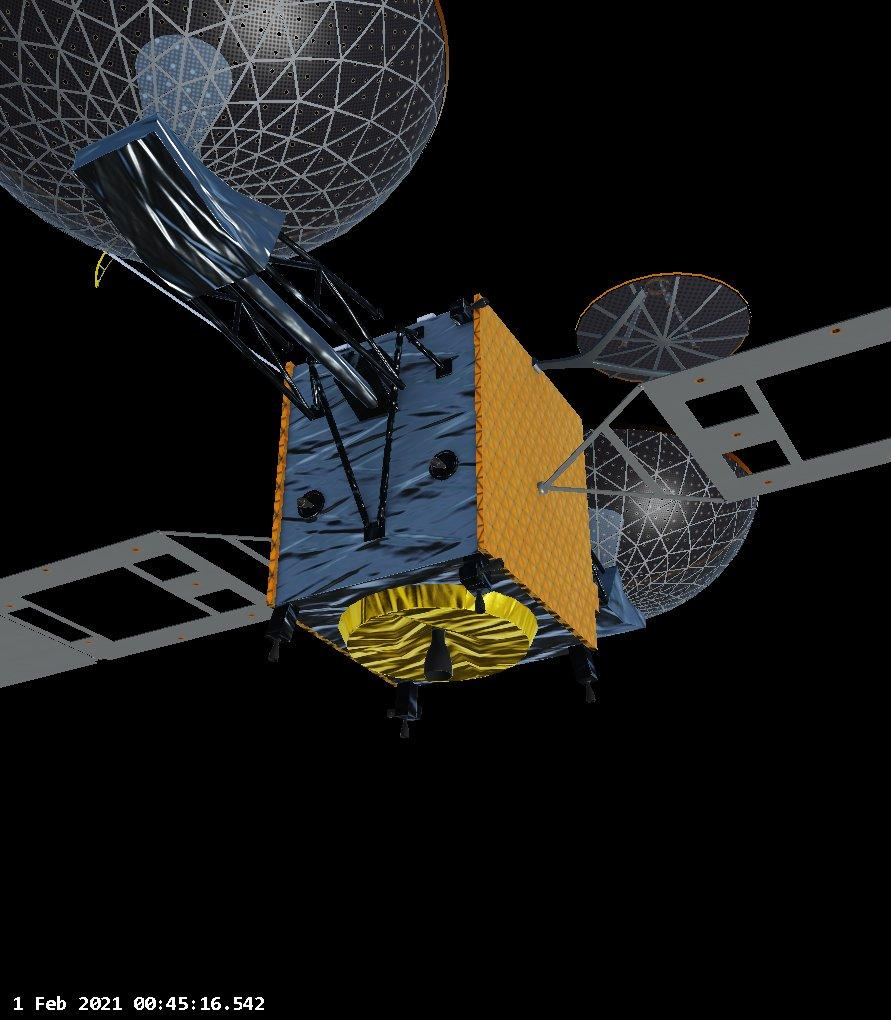antenna: (0, 0, 453, 280), (586, 424, 767, 619), (572, 266, 754, 384)
body: (264, 292, 600, 694)
solar: (638, 306, 891, 504), (0, 529, 279, 693)
thruster: (422, 621, 455, 682), (580, 675, 600, 707), (478, 555, 506, 576), (266, 635, 284, 665), (465, 296, 491, 314), (471, 587, 487, 616), (398, 714, 411, 740), (295, 494, 316, 510), (428, 455, 448, 470)
